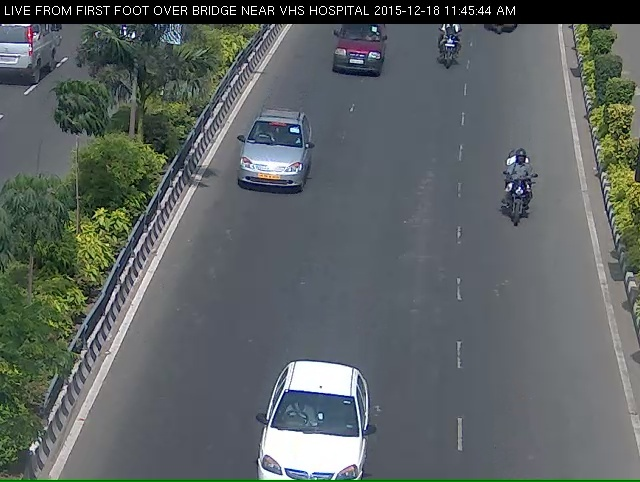Car: (252, 379, 375, 480), (232, 117, 307, 215), (324, 18, 392, 93)
Person: (499, 147, 537, 260), (436, 21, 466, 81)
